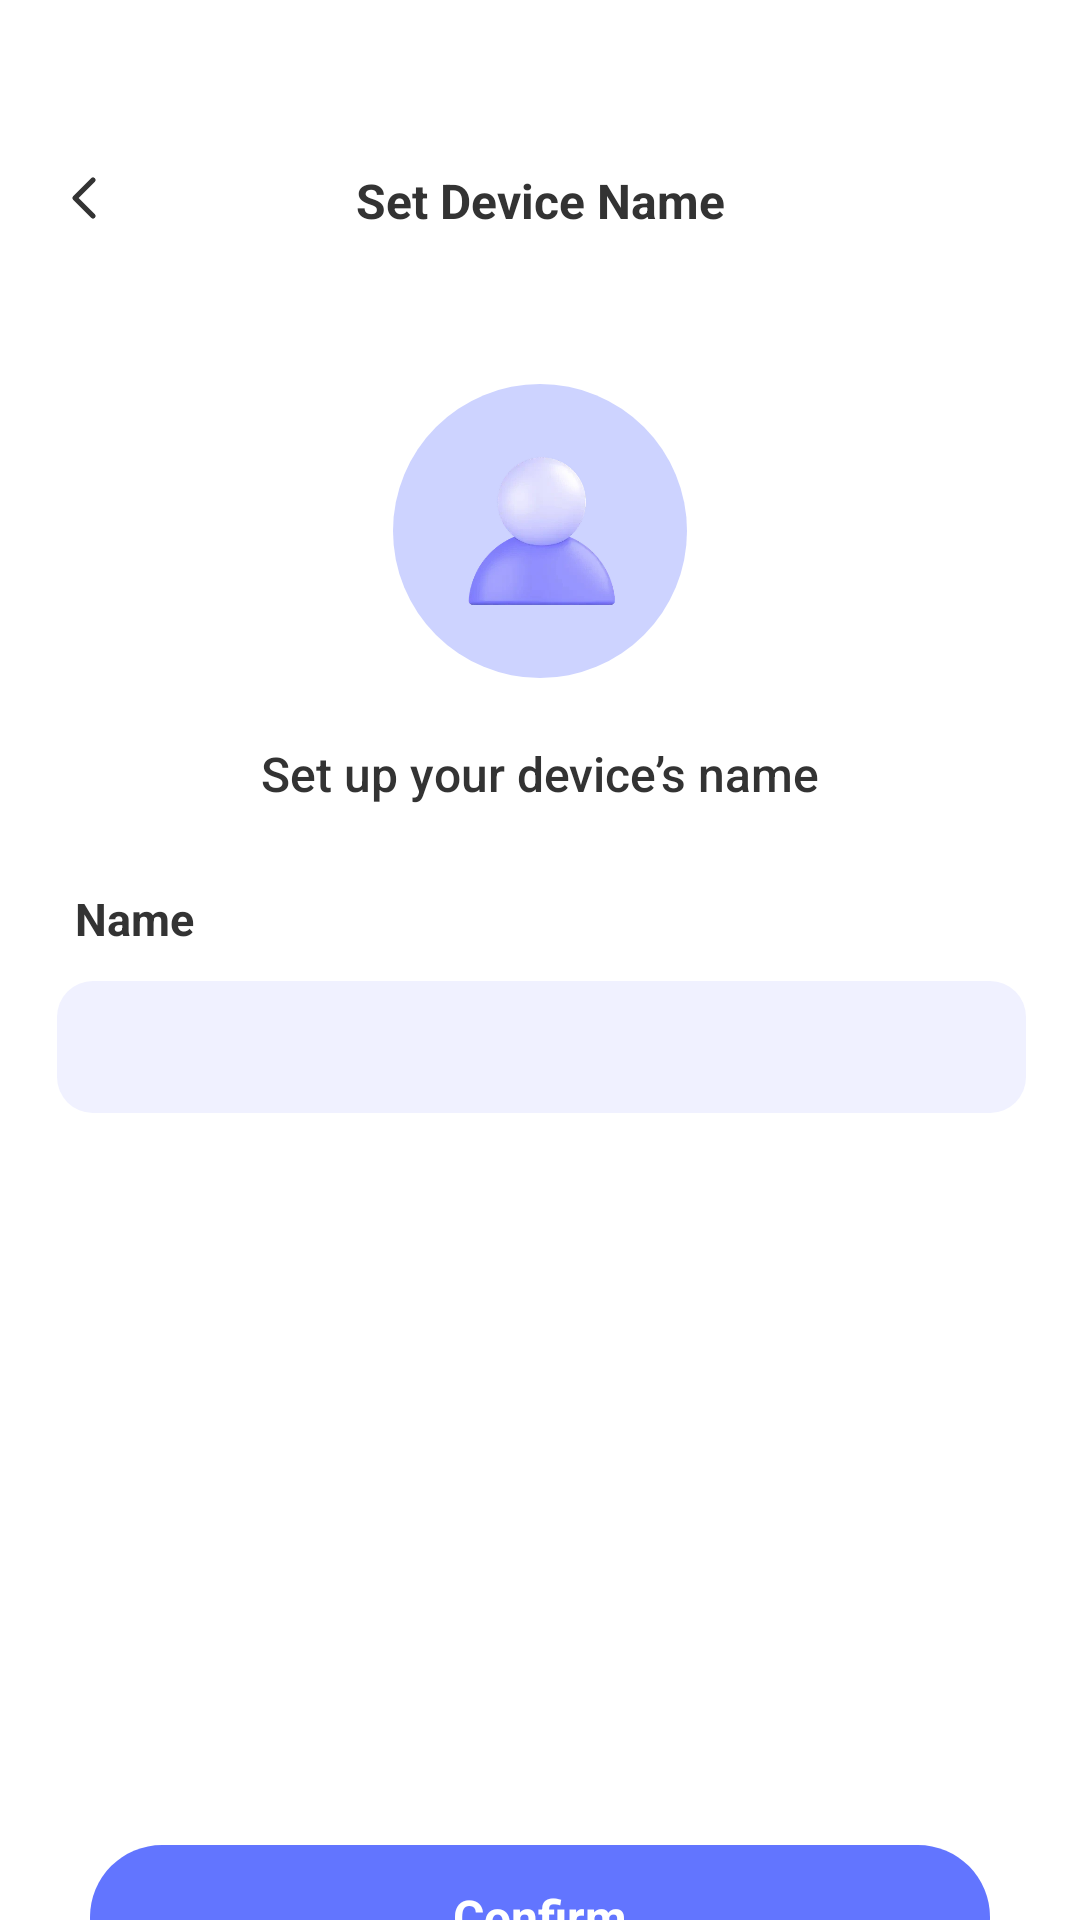

Icons on this 1080x1920 Android screen, each with the point to tap as (x,y):
Back: (84,198)
